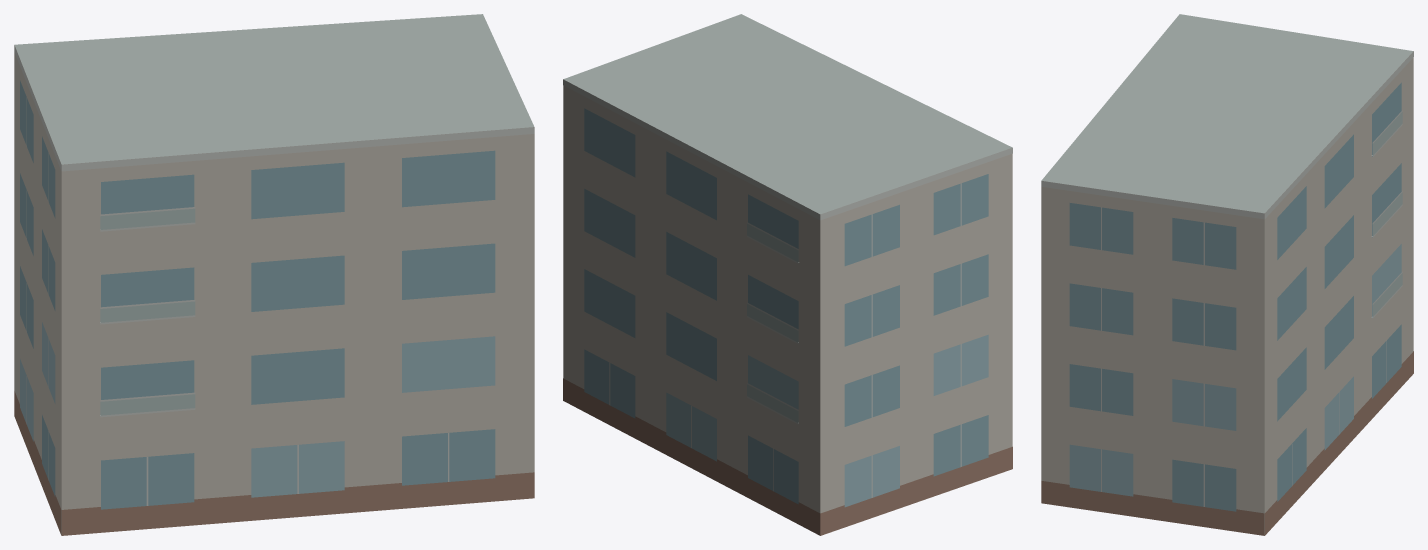
File: survey-upis-33035668.glb
3 renders of one model, left to right at view 1: azimuth 30°, elevation 25°; view 2: azimuth 150°, elevation 25°; view 3: azimuth 270°, elevation 25°, orthographic. The views are drawn at different scales.
Parts seen in each view (by area): view 1: survey-upis-33035668.tmp; view 2: survey-upis-33035668.tmp; view 3: survey-upis-33035668.tmp.
Boxes of the visible parts, bbox=[...] form: survey-upis-33035668.tmp: bbox=[14, 14, 534, 535]; survey-upis-33035668.tmp: bbox=[563, 14, 1012, 535]; survey-upis-33035668.tmp: bbox=[1041, 14, 1413, 535].
Bounding box in the file's own units: 17.51 × 13.2 × 13.83.
